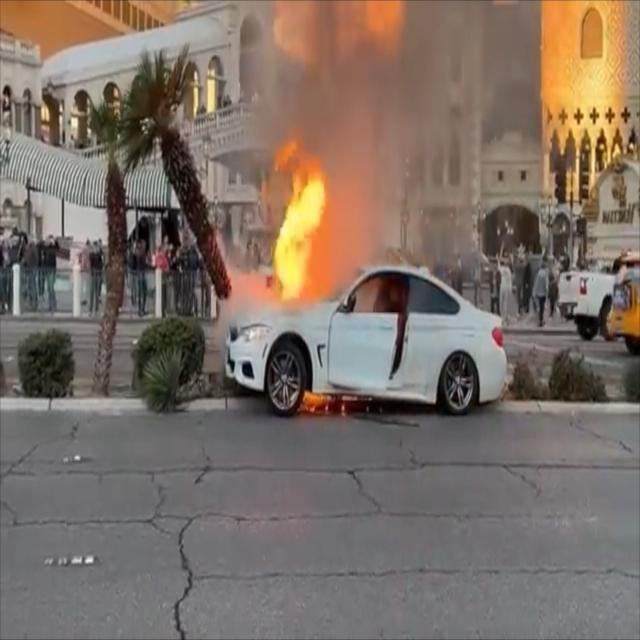fire: (260, 144, 336, 308)
